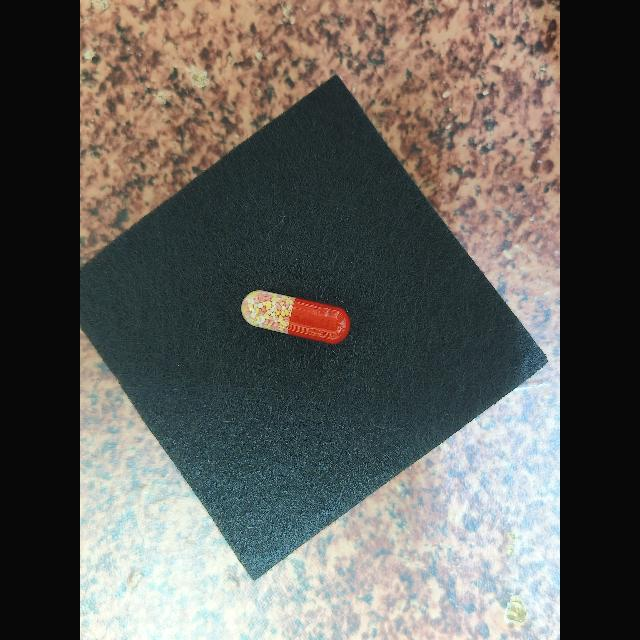Intact Capsule: (241, 290, 351, 344)
